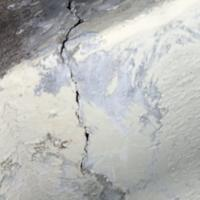crack: (39, 0, 121, 199)
